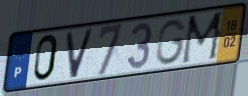0: (32, 33, 59, 83)
3: (126, 20, 154, 72)
7: (97, 21, 125, 79)
G: (155, 18, 188, 67)
M: (179, 9, 226, 67)
V: (65, 26, 96, 80)
